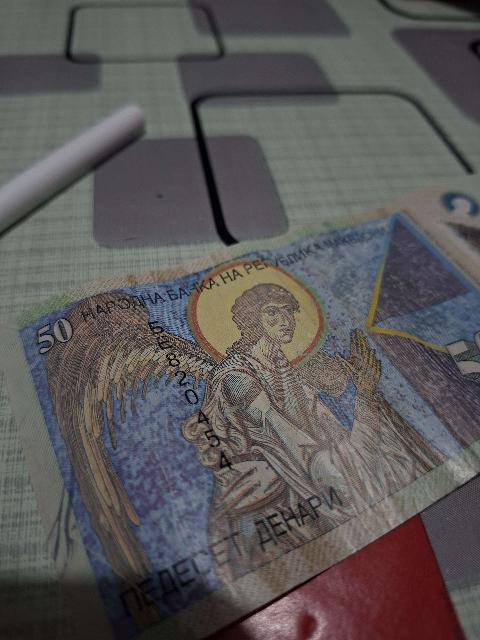note: (0, 186, 479, 638)
